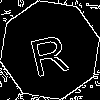R: (25, 25, 71, 78)
